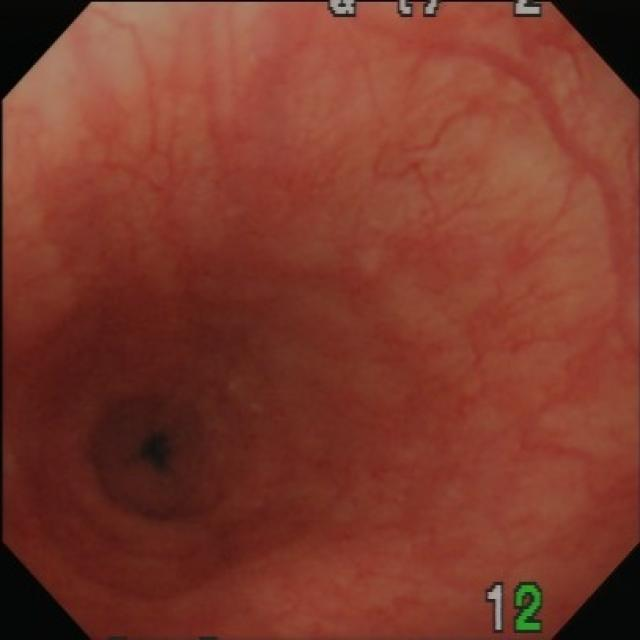D: (355, 333, 482, 543), (210, 68, 327, 271), (358, 220, 484, 301)
E: (113, 402, 196, 492)
S: (485, 581, 547, 636), (325, 3, 545, 18)
